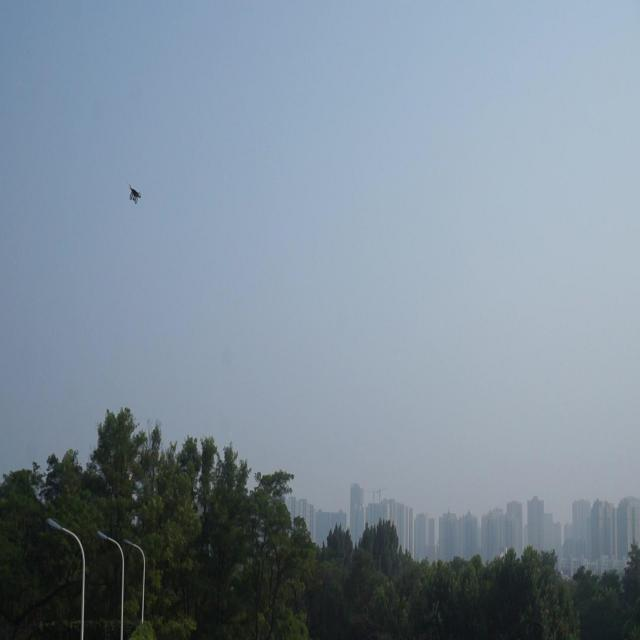UAV: (128, 184, 142, 204)
